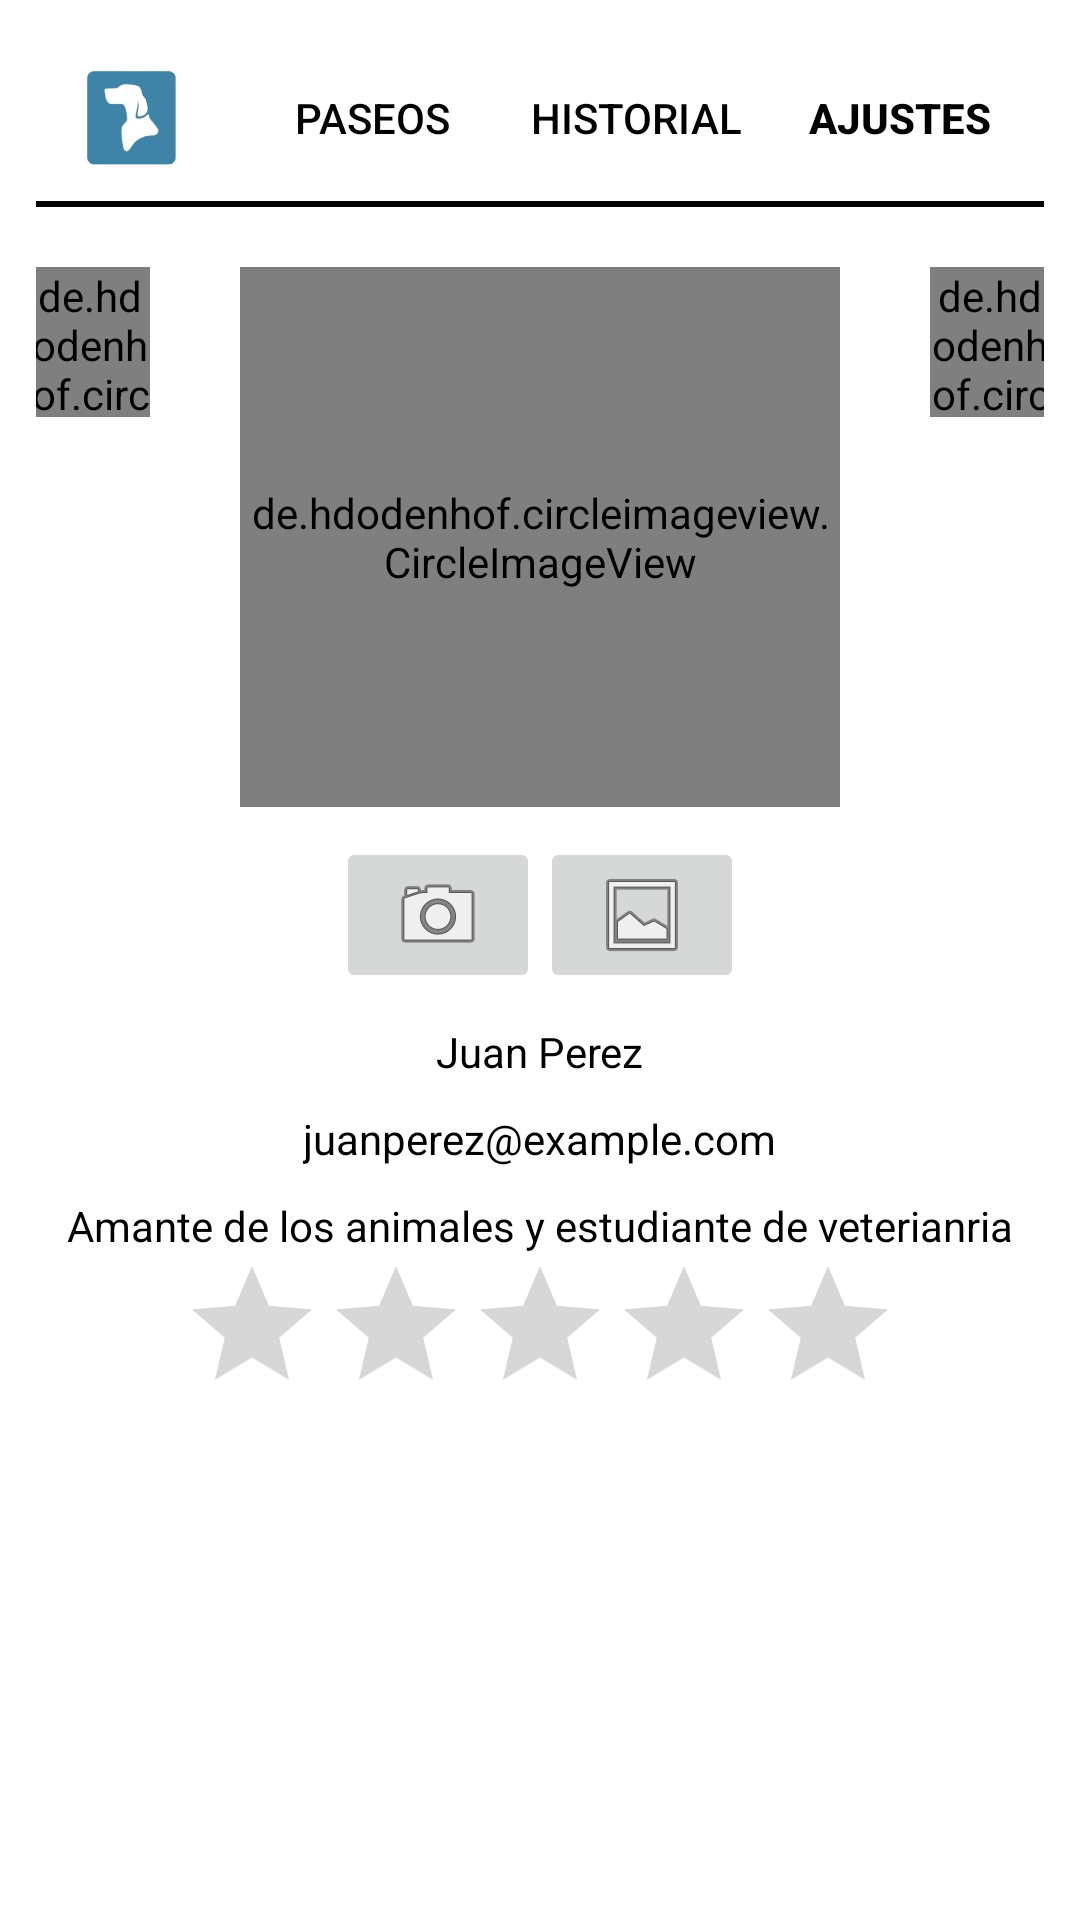

Icons on this 1080w x 1920h Android screen, each with its box as [x1=x1, y1=y1, x2=x2, y2=y2]:
camera: [x1=348, y1=855, x2=528, y2=975]
gallery: [x1=552, y1=855, x2=732, y2=975]
loguito: [x1=87, y1=71, x2=176, y2=165]
